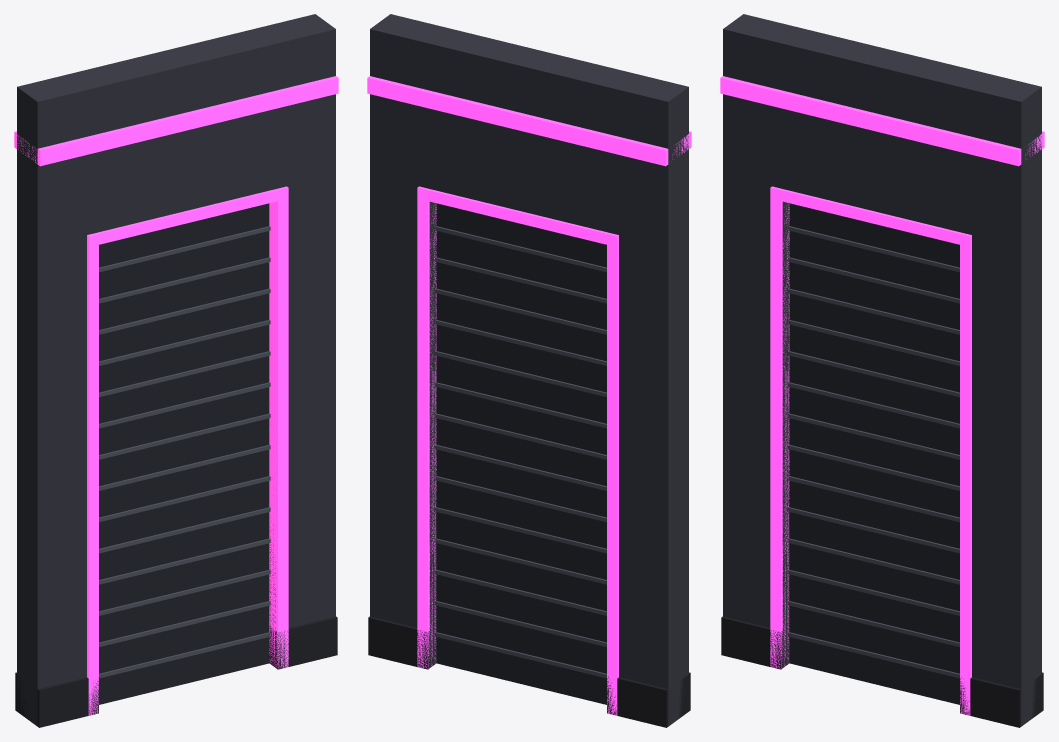
Rendered from cyb-concreto-rosa-porta.gltf.
3 views of the same model, side by side, from view 1: azimuth 30°, elevation 25°; view 2: azimuth 150°, elevation 25°; view 3: azimuth 330°, elevation 25° (orthographic).
Parts seen in each view (by area): view 1: cyb-concreto-rosa-porta; view 2: cyb-concreto-rosa-porta; view 3: cyb-concreto-rosa-porta.
Boxes of the visible parts, x1,y1,x2,y2 form: cyb-concreto-rosa-porta: [14, 14, 338, 727]; cyb-concreto-rosa-porta: [367, 14, 691, 727]; cyb-concreto-rosa-porta: [720, 14, 1044, 727].
Size of the model in its own units: 1 by 2 by 0.15.
